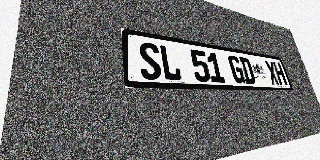1: (205, 51, 225, 83)
5: (190, 49, 211, 82)
D: (239, 56, 257, 84)
G: (227, 55, 246, 84)
H: (272, 62, 288, 85)
L: (159, 44, 182, 81)
S: (138, 41, 163, 80)
X: (264, 60, 280, 85)
